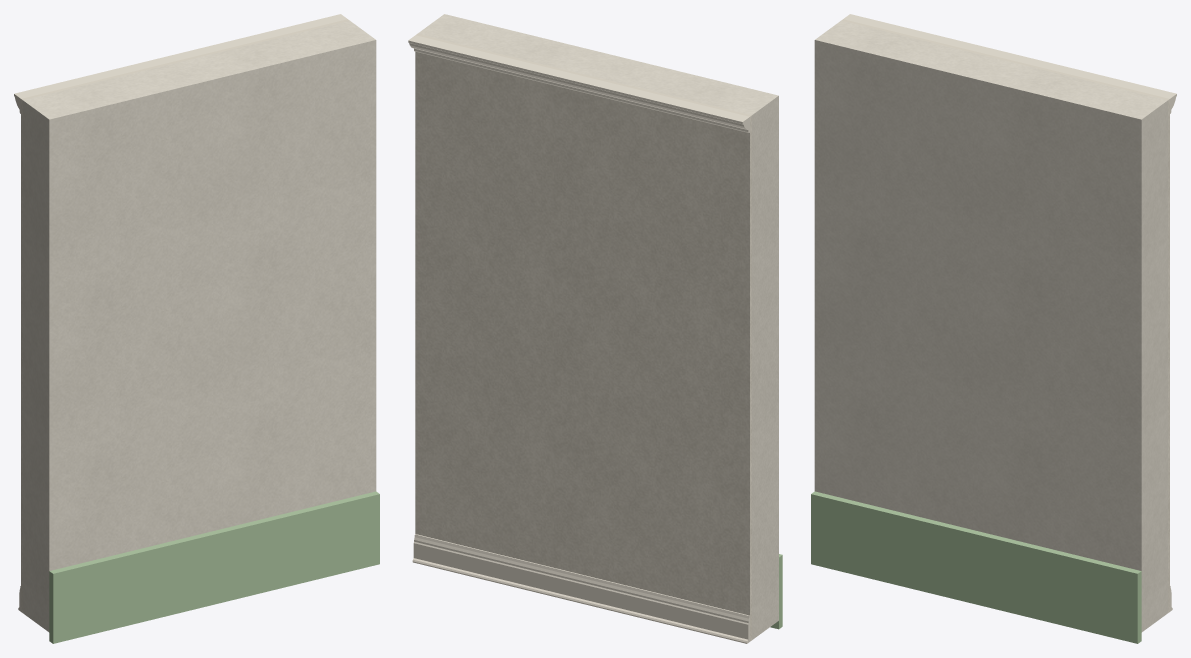
The model's file is wall_tower_panel.glb.
3 renders of one model, left to right at view 1: azimuth 30°, elevation 25°; view 2: azimuth 150°, elevation 25°; view 3: azimuth 330°, elevation 25°, orthographic. The views are drawn at different scales.
Parts seen in each view (by area): view 1: wall_tower_panel_panel, wall_tower_panel_band, molduras, wall_tower_panel_plaster; view 2: wall_tower_panel_plaster, wall_tower_panel_panel, molduras; view 3: wall_tower_panel_panel, wall_tower_panel_band, molduras, wall_tower_panel_plaster.
Boxes of the visible parts, left/top/right/bottom form: wall_tower_panel_panel: left=23, top=20, right=376, bottom=632; wall_tower_panel_band: left=49, top=491, right=379, bottom=643; molduras: left=14, top=14, right=347, bottom=611; wall_tower_panel_plaster: left=21, top=19, right=349, bottom=612; wall_tower_panel_plaster: left=415, top=34, right=751, bottom=641; wall_tower_panel_panel: left=417, top=14, right=778, bottom=639; molduras: left=408, top=35, right=749, bottom=643; wall_tower_panel_panel: left=814, top=20, right=1167, bottom=632; wall_tower_panel_band: left=811, top=491, right=1141, bottom=643; molduras: left=843, top=14, right=1176, bottom=611; wall_tower_panel_plaster: left=841, top=19, right=1169, bottom=612.
Bounding box in the file's own units: 2 × 3.05 × 0.415.
Materials: 4 (2 with a texture image).
